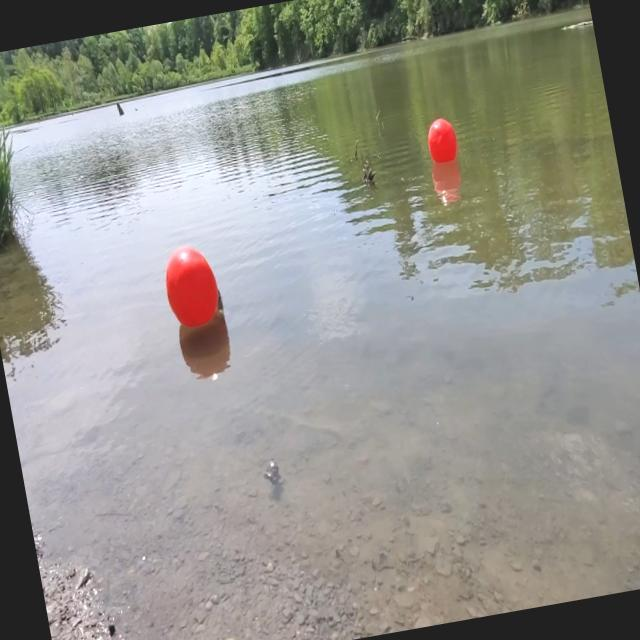buoy: (158, 238, 228, 334), (422, 115, 460, 168)
